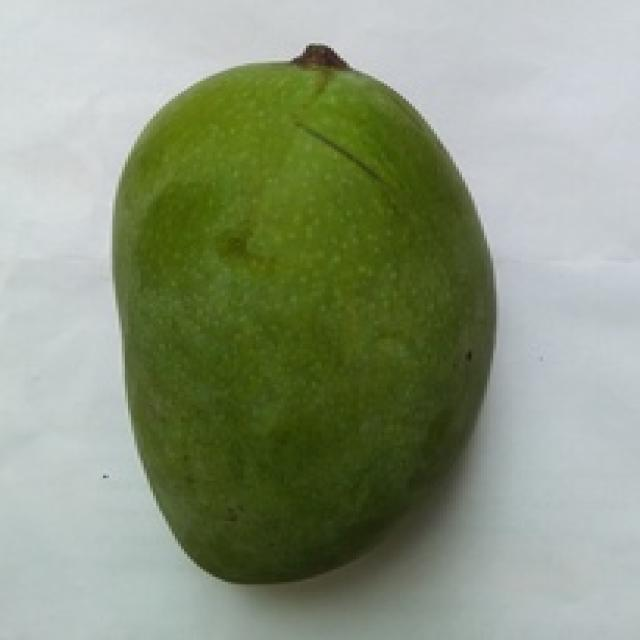Mango: (116, 58, 493, 579)
